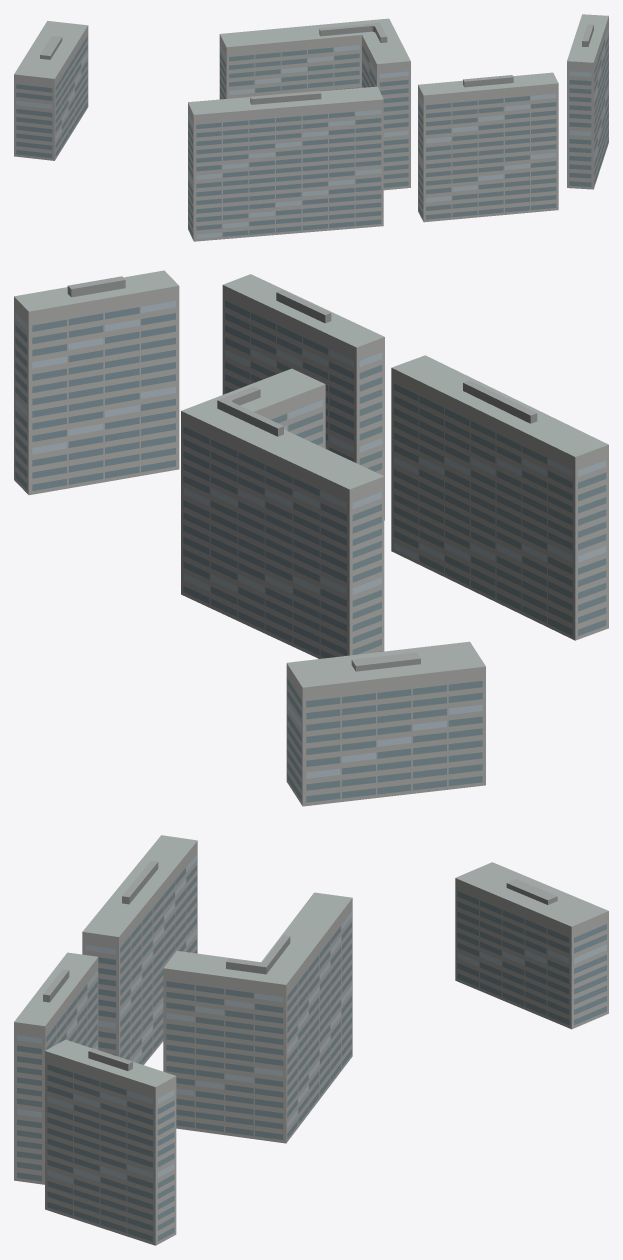
Rendered from apt-a13790714.glb.
3 views of the same model, one above another, from view 1: azimuth 30°, elevation 25°; view 2: azimuth 150°, elevation 25°; view 3: azimuth 270°, elevation 25° (orthographic). The views are drawn at different scales.
Parts seen in each view (by area): view 1: apt-a13790714; view 2: apt-a13790714; view 3: apt-a13790714.
Part boxes in pixels (bbox=[...]): apt-a13790714: bbox=[14, 14, 608, 241]; apt-a13790714: bbox=[14, 270, 608, 806]; apt-a13790714: bbox=[14, 835, 608, 1245].
Size of the model in its own units: 174 by 47.81 by 156.
